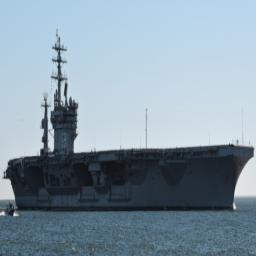Portanaves: (5, 25, 255, 212)
